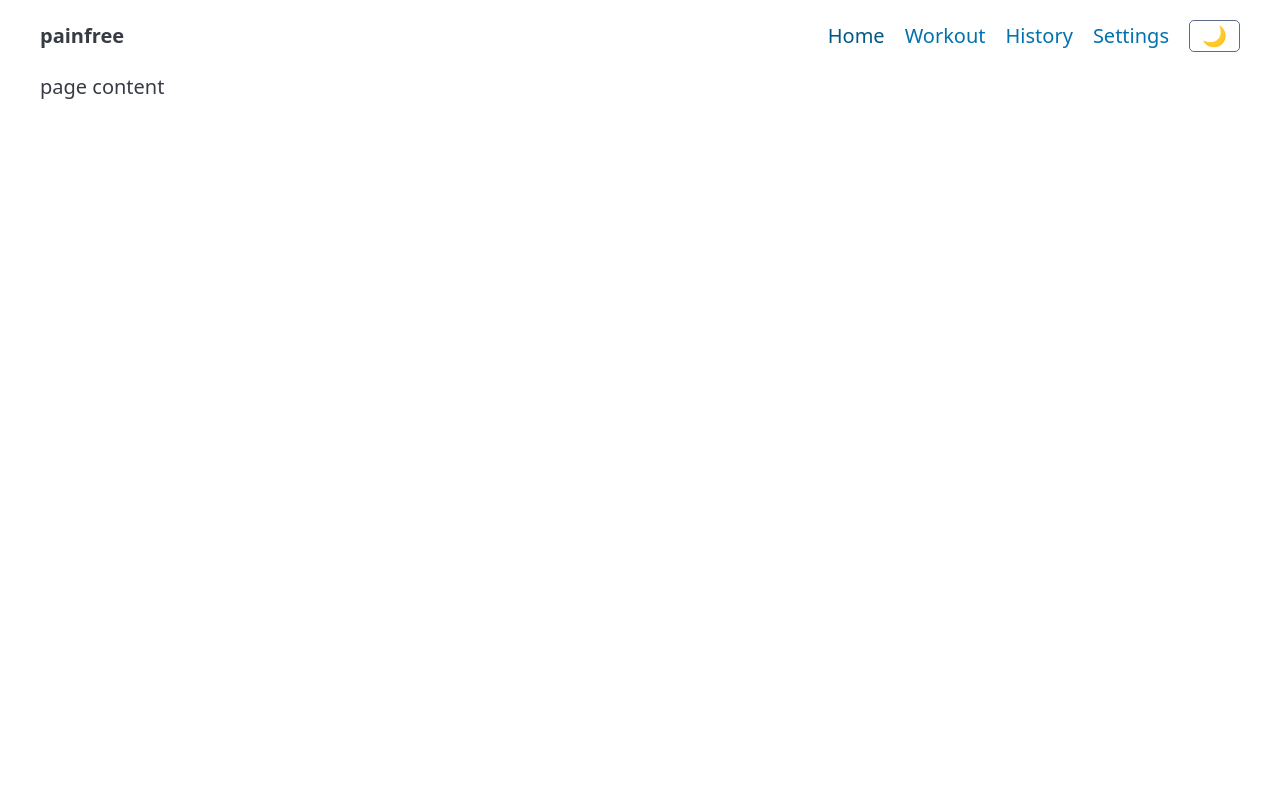
Test: layout (brittle component UI - safe to skip) › renders nav with current-page marker and toggles to dark
Expected: the text "page content" is shown, [40,73,164,100]
Click the button named "Toggle theme": (1214, 36) [1189,20,1240,52]
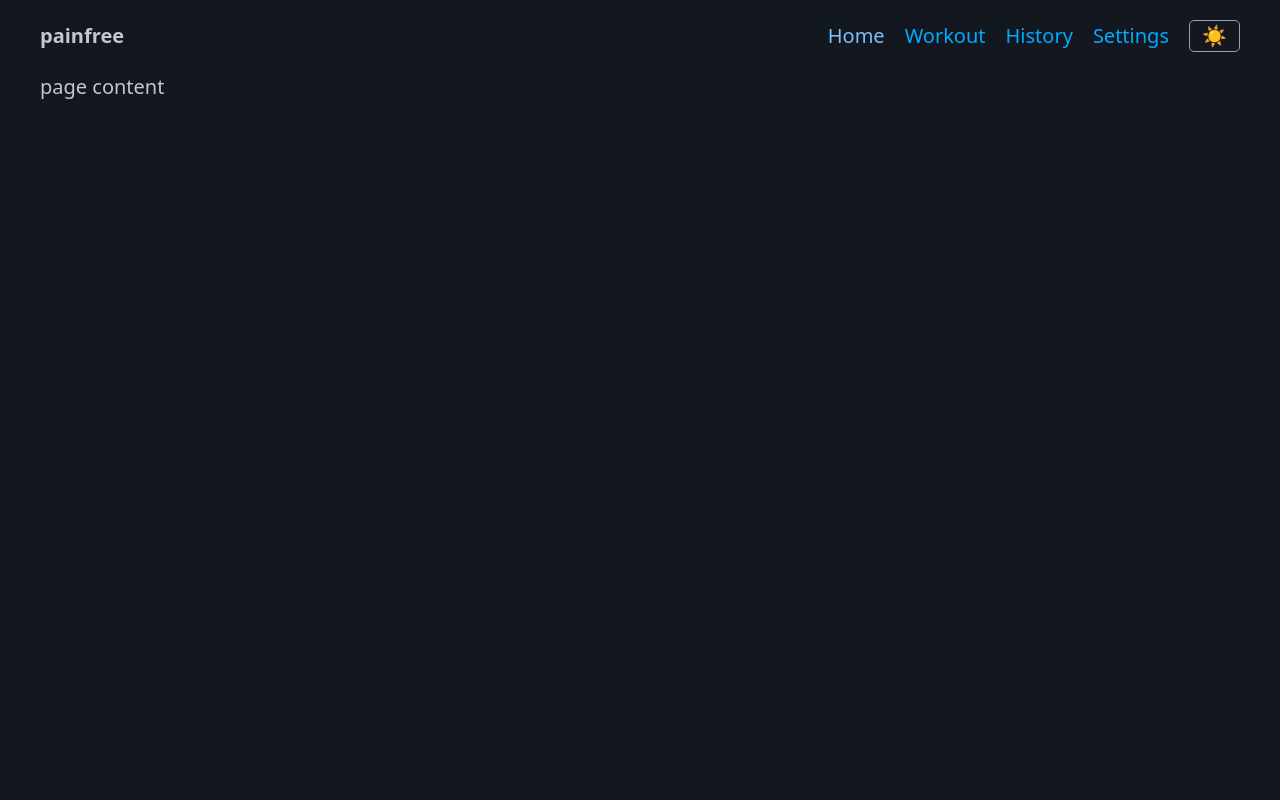
Now the button named "Toggle theme" reads "☀️", box [1189,20,1240,52]
